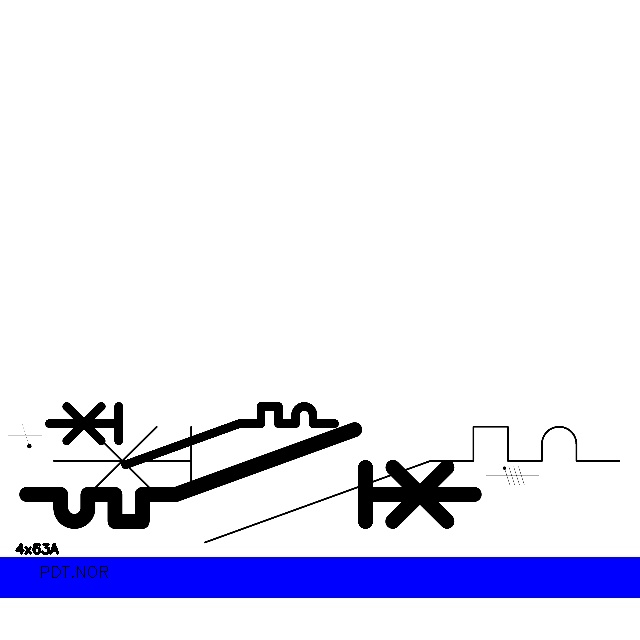interruptor_termomagnetico: (39, 412, 634, 557), (15, 418, 485, 533), (42, 399, 342, 472)
